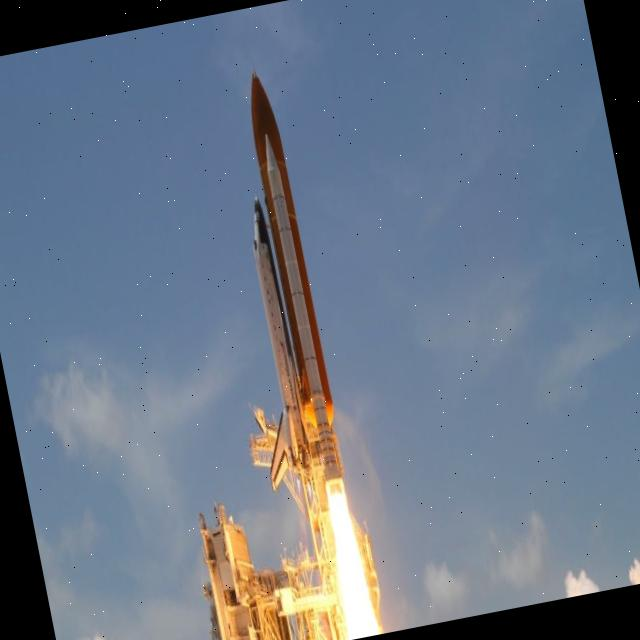rocket: (220, 192, 318, 492)
